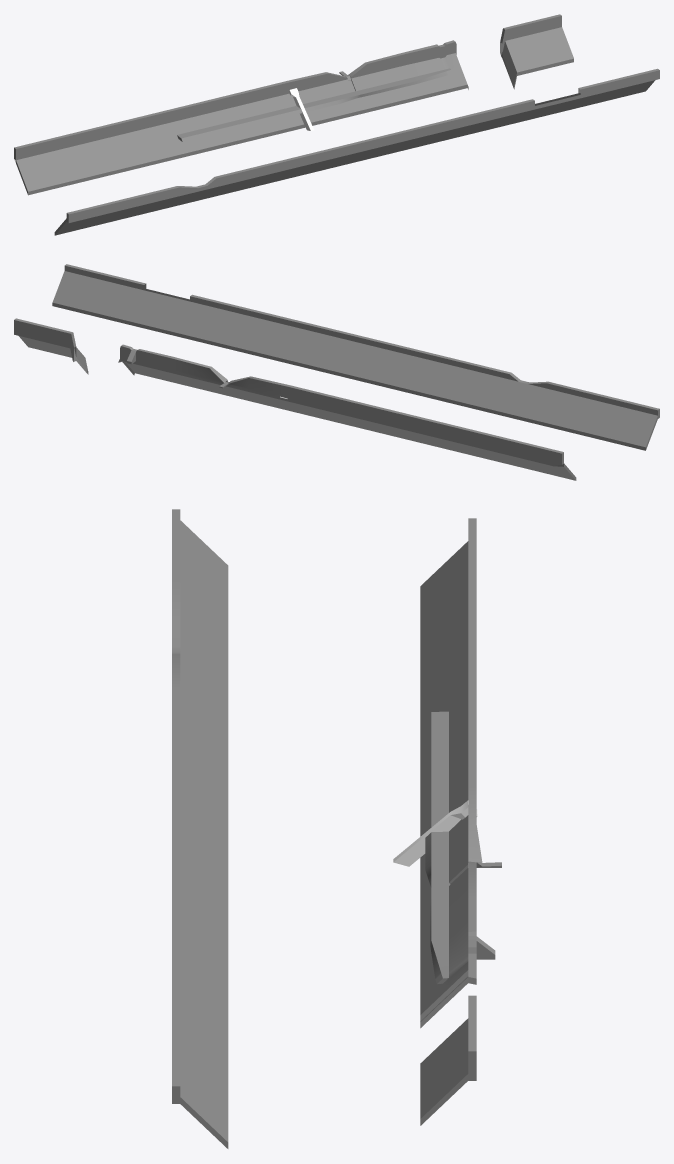
File: Represa.fbx
3 renders of one model, top to bottom at view 1: azimuth 30°, elevation 25°; view 2: azimuth 150°, elevation 25°; view 3: azimuth 270°, elevation 25°, orthographic. The views are drawn at different scales.
Parts seen in each view (by area): view 1: Decoração; view 2: Decoração; view 3: Decoração.
Boxes of the visible parts, box(x1,y1,x2,y2) form: Decoração: box(14, 14, 659, 235); Decoração: box(14, 264, 659, 480); Decoração: box(172, 509, 501, 1148).
Size of the model in its own units: 32408 by 2651 by 7839.
